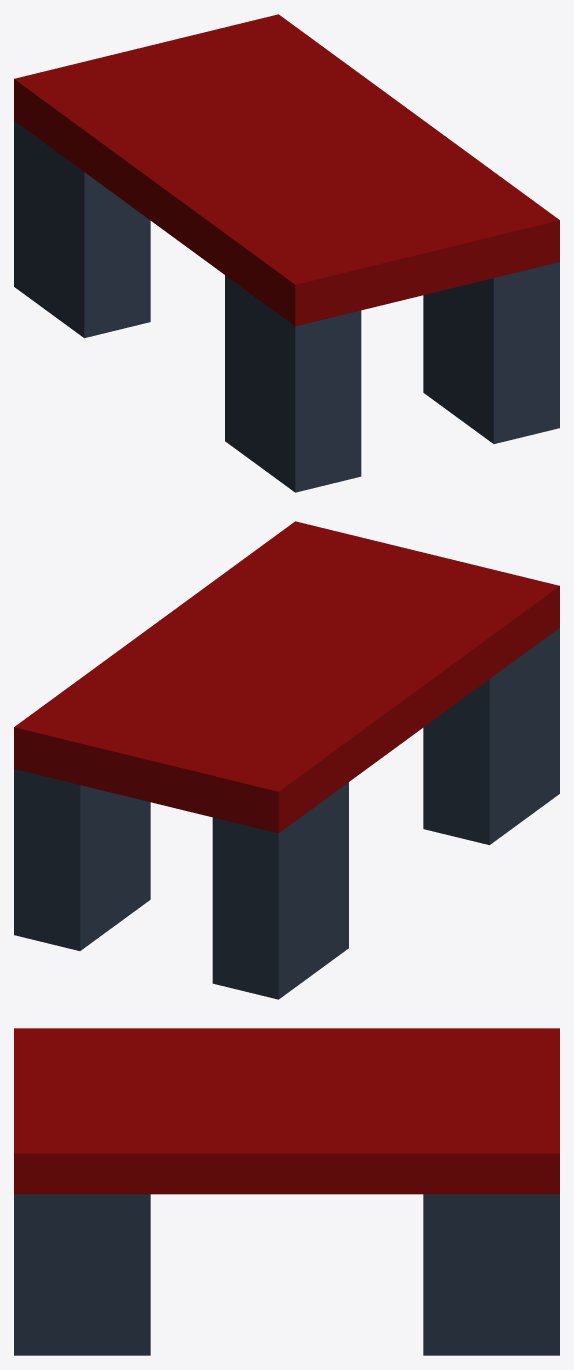
File: bureau.glb
3 renders of one model, top to bottom at view 1: azimuth 30°, elevation 25°; view 2: azimuth 150°, elevation 25°; view 3: azimuth 270°, elevation 25°, orthographic. The views are drawn at different scales.
Visible parts, largest first — view 1: Cube; view 2: Cube; view 3: Cube.
Part boxes in pixels (x1,y1,x2,y2): Cube: (14,14,559,492); Cube: (14,521,559,999); Cube: (14,1028,559,1355).
Bounding box in the file's own units: 1.03 × 0.7701 × 1.89.
1 material, 1 textured.
